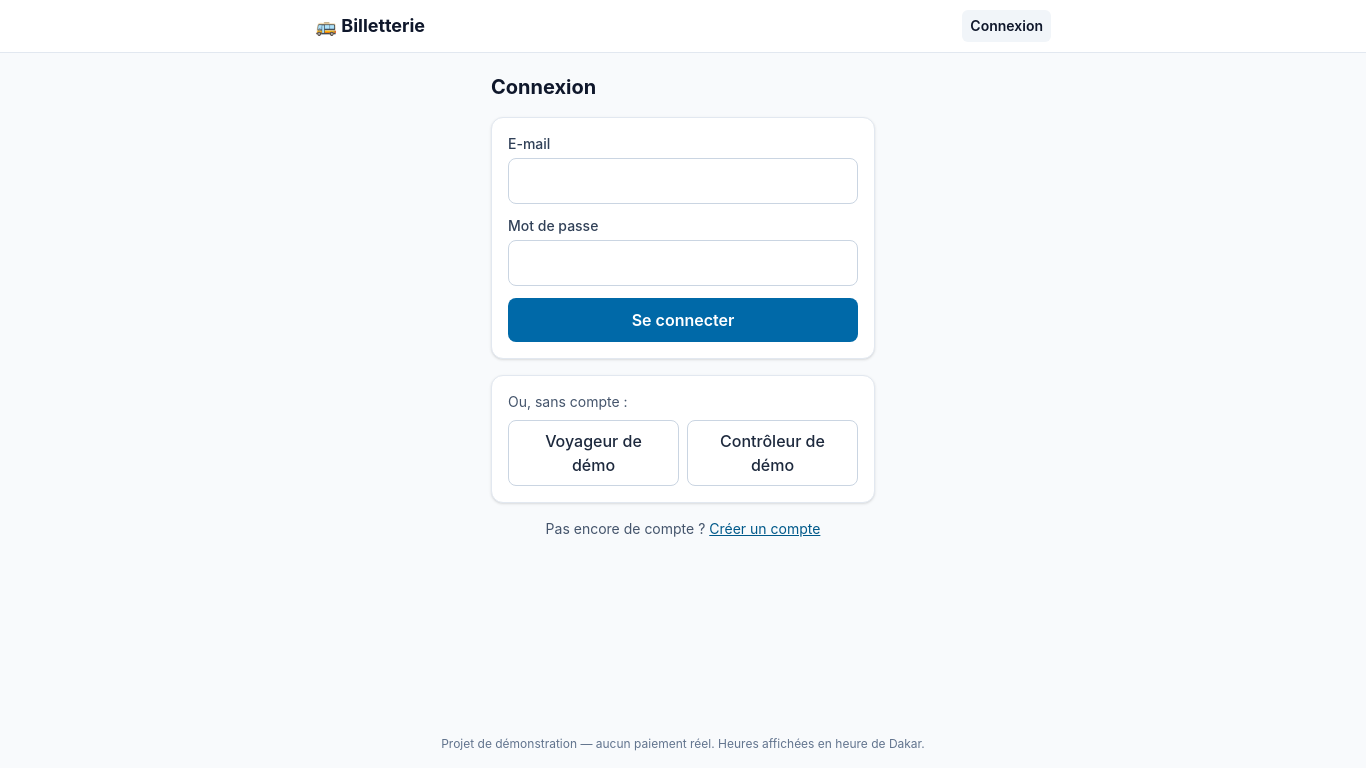
Test case: connexion › identifiants refusés : message de l’API
In the field labelled "E-mail": (683, 181) [508, 158, 858, 204], type "awa@example.com"
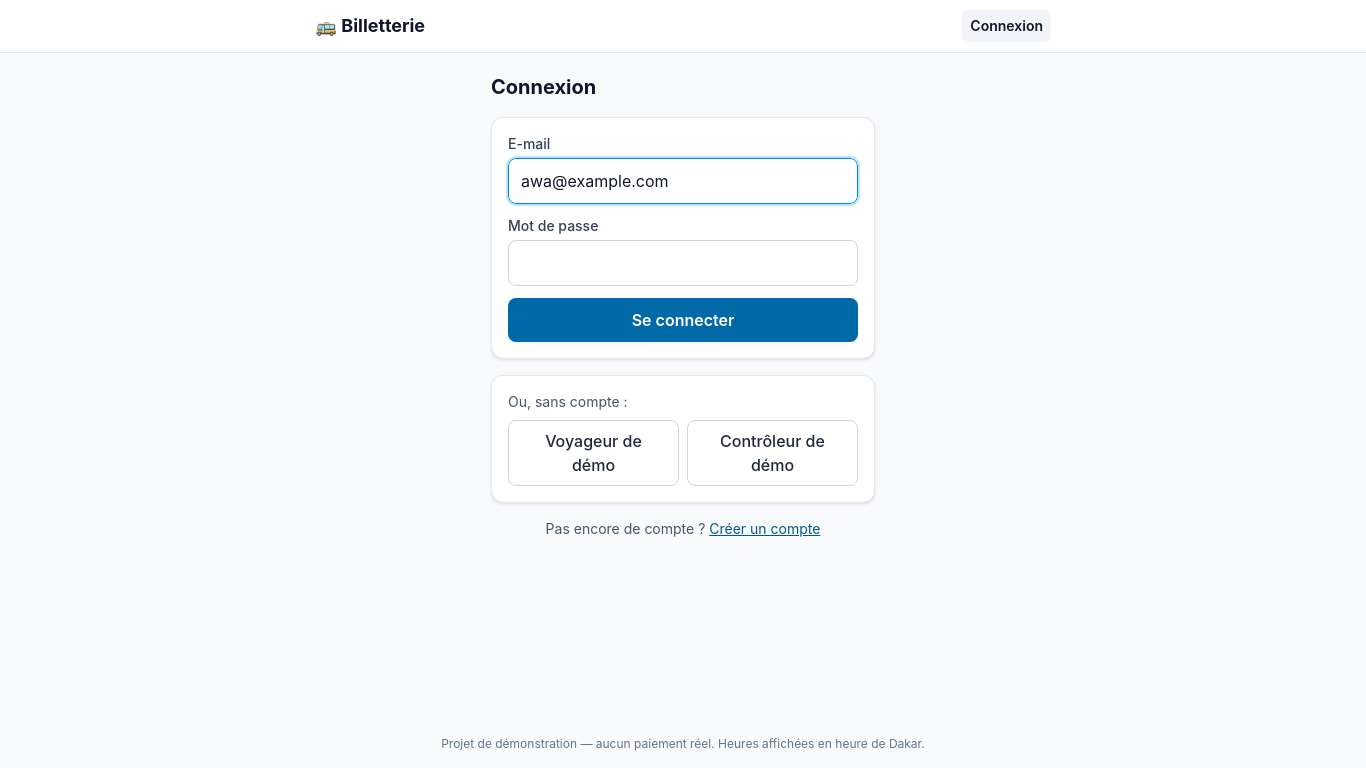
In the password field labelled "Mot de passe": (683, 263) [508, 240, 858, 286], type "mauvais"
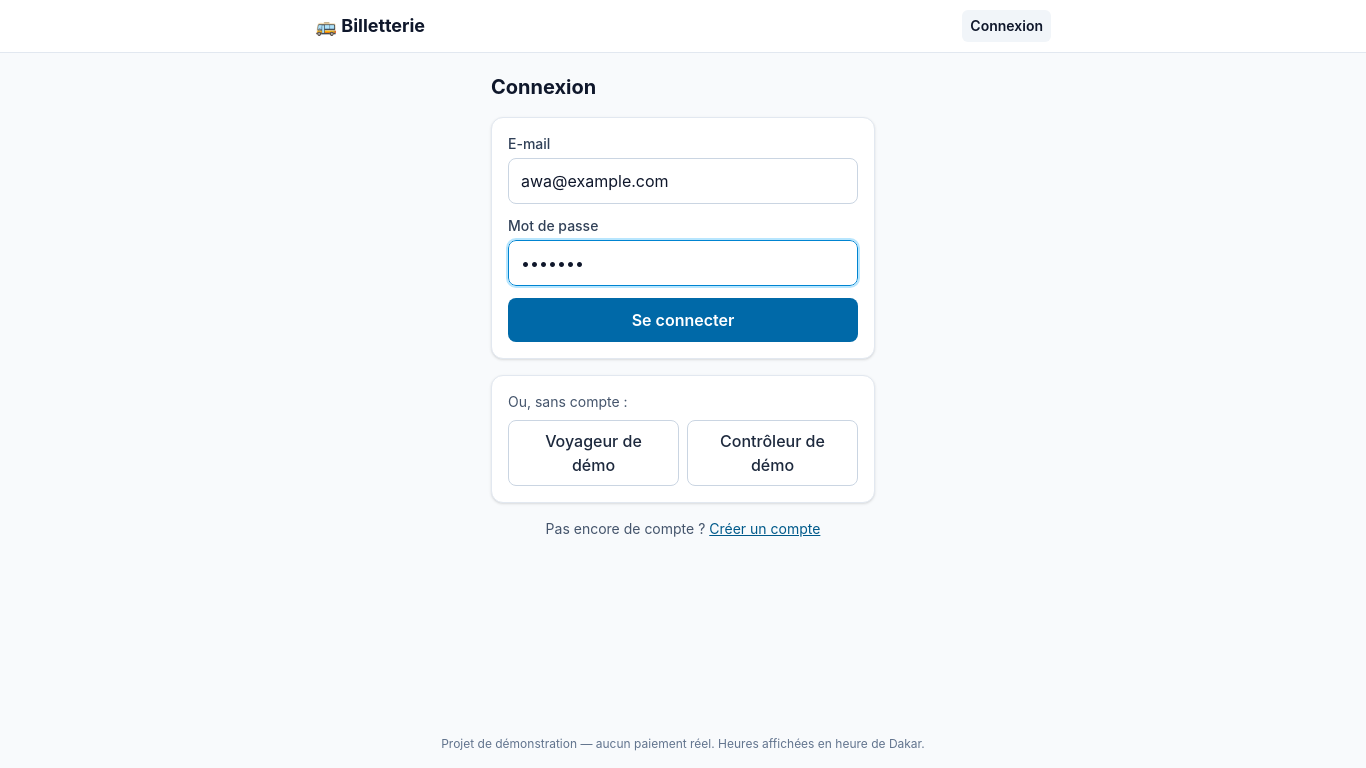
Click the button "Se connecter": (683, 320) [508, 298, 858, 342]
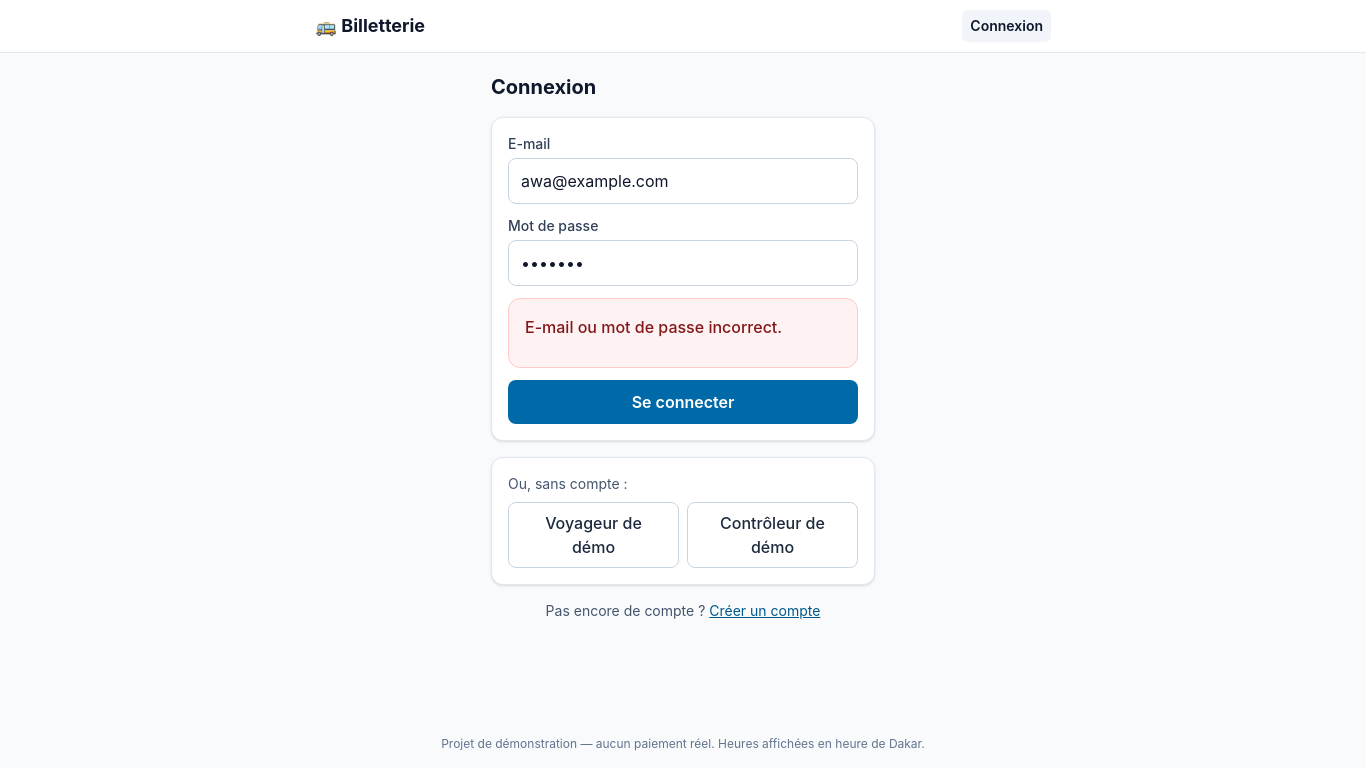
Expected: the text "E-mail ou mot de passe incorrect." is shown, [525, 317, 782, 337]
